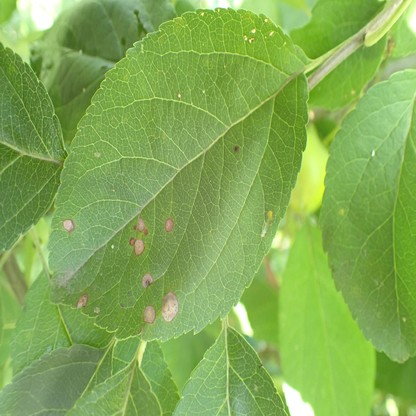frogeye_leaf_spot: (161, 291, 179, 321), (262, 210, 273, 240), (133, 216, 150, 234), (129, 237, 144, 257), (142, 304, 155, 323), (141, 273, 153, 288), (76, 295, 87, 309), (62, 219, 73, 231), (165, 219, 174, 232)
